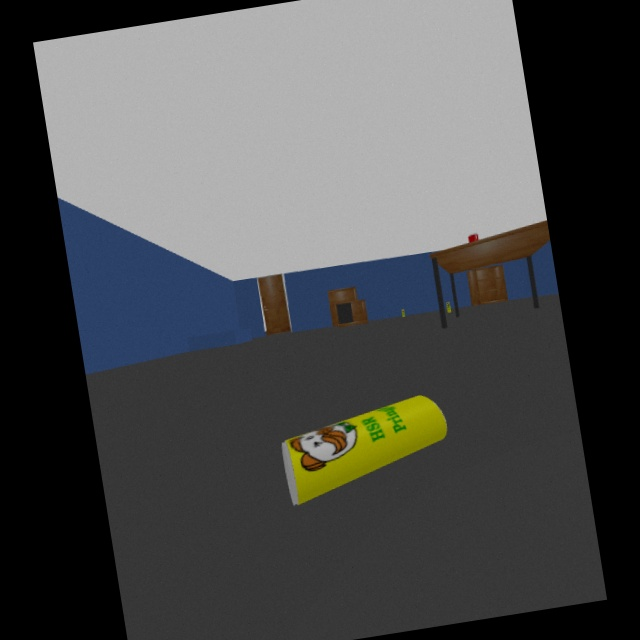chipsdose_gelb: (282, 395, 448, 506), (446, 300, 452, 314), (401, 307, 406, 316)
